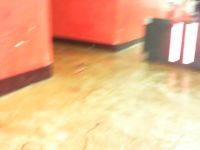switch: (182, 22, 199, 64), (168, 22, 184, 63)
